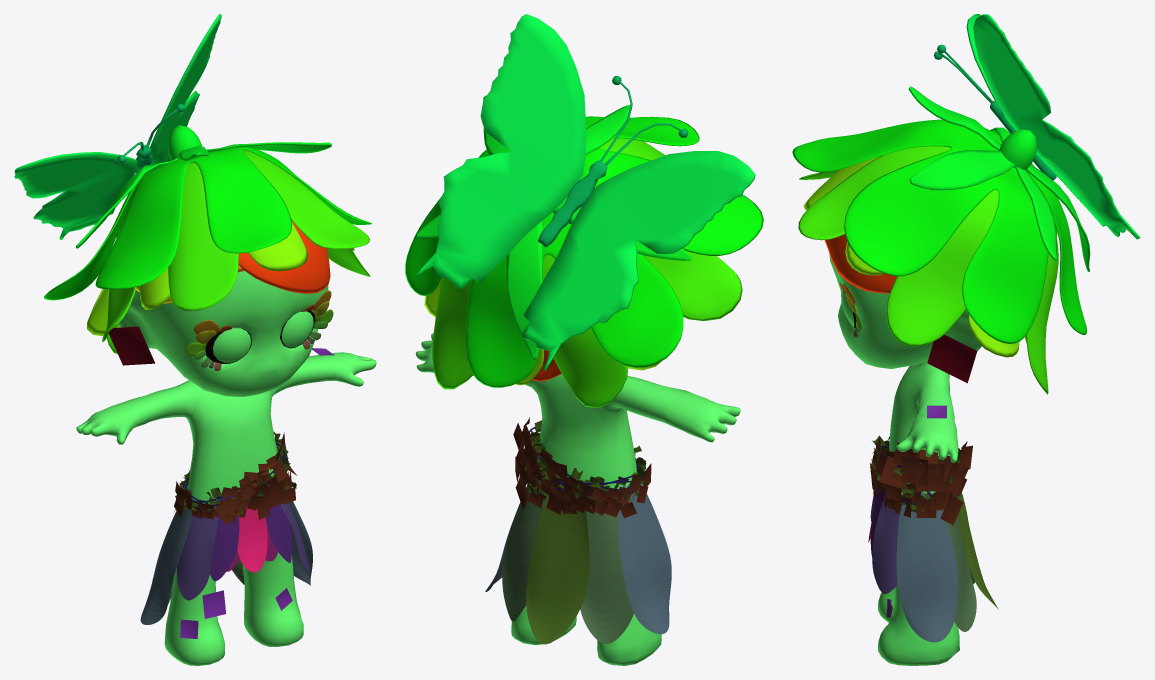
The model's file is flower_character_low.fbx.
3 views of the same model, side by side, from view 1: azimuth 30°, elevation 25°; view 2: azimuth 150°, elevation 25°; view 3: azimuth 270°, elevation 25° (orthographic). The views are drawn at different scales.
Visible parts, largest first — view 1: headacc, body, skirt, flatacc, eyes; view 2: headacc, skirt, body, flatacc; view 3: headacc, body, skirt, flatacc.
Boxes of the visible parts, x1,y1,x2,y2 form: headacc: [14, 14, 371, 370]; body: [76, 271, 376, 665]; skirt: [140, 484, 312, 624]; flatacc: [108, 326, 334, 638]; eyes: [205, 310, 315, 363]; headacc: [405, 14, 763, 407]; skirt: [485, 478, 671, 644]; body: [415, 333, 740, 665]; flatacc: [513, 417, 651, 518]; headacc: [792, 14, 1140, 394]; body: [829, 254, 981, 665]; skirt: [868, 485, 998, 642]; flatacc: [870, 334, 977, 617].
Bounding box in the file's own units: 5563 × 9617 × 4796.
